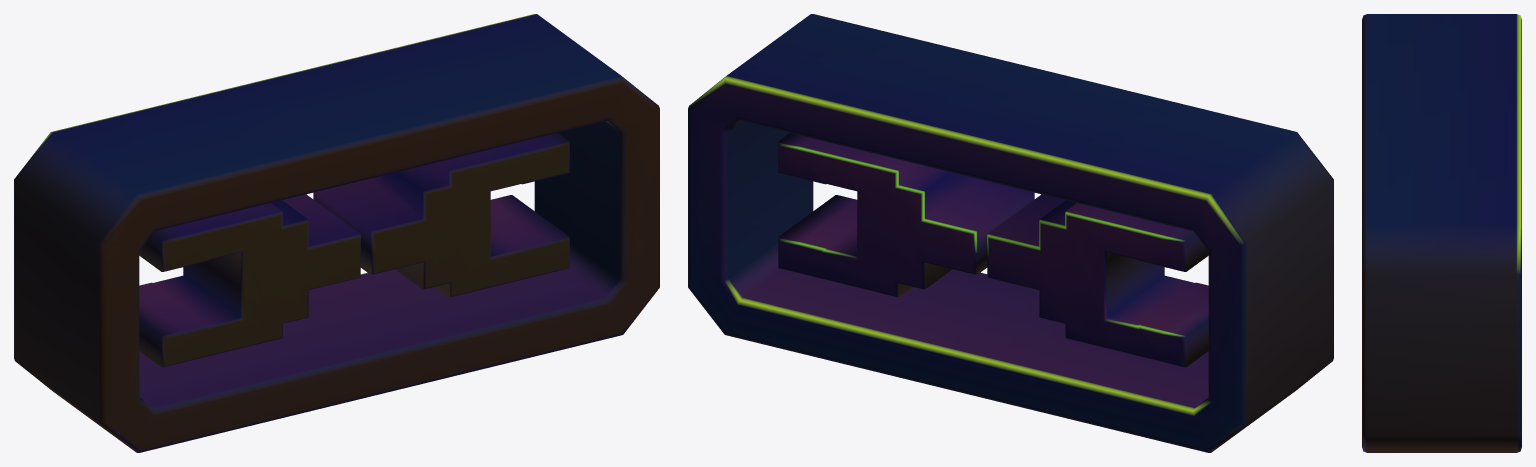
Rendered from Platform_Box_03.fbx.
3 views of the same model, side by side, from view 1: azimuth 30°, elevation 25°; view 2: azimuth 150°, elevation 25°; view 3: azimuth 270°, elevation 25° (orthographic). The views are drawn at different scales.
Visible parts, largest first — view 1: Platform; view 2: Platform; view 3: Platform.
Part boxes in pixels (box(x1,y1,x2,y2)): Platform: box(14, 14, 659, 452); Platform: box(688, 14, 1333, 452); Platform: box(1362, 14, 1521, 452).
Size of the model in its own units: 215 by 95 by 60.
